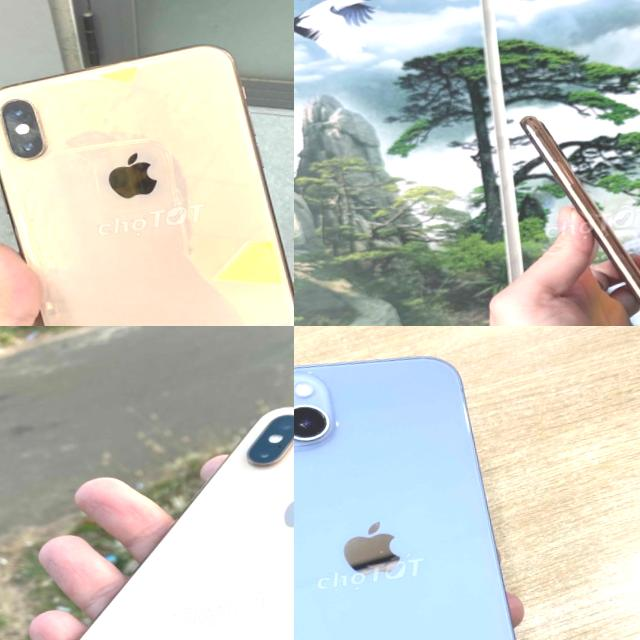gen_11: (518, 93, 640, 326)
gen_14: (294, 327, 547, 640)
gen_x_xs: (0, 31, 294, 326), (0, 374, 294, 640)
